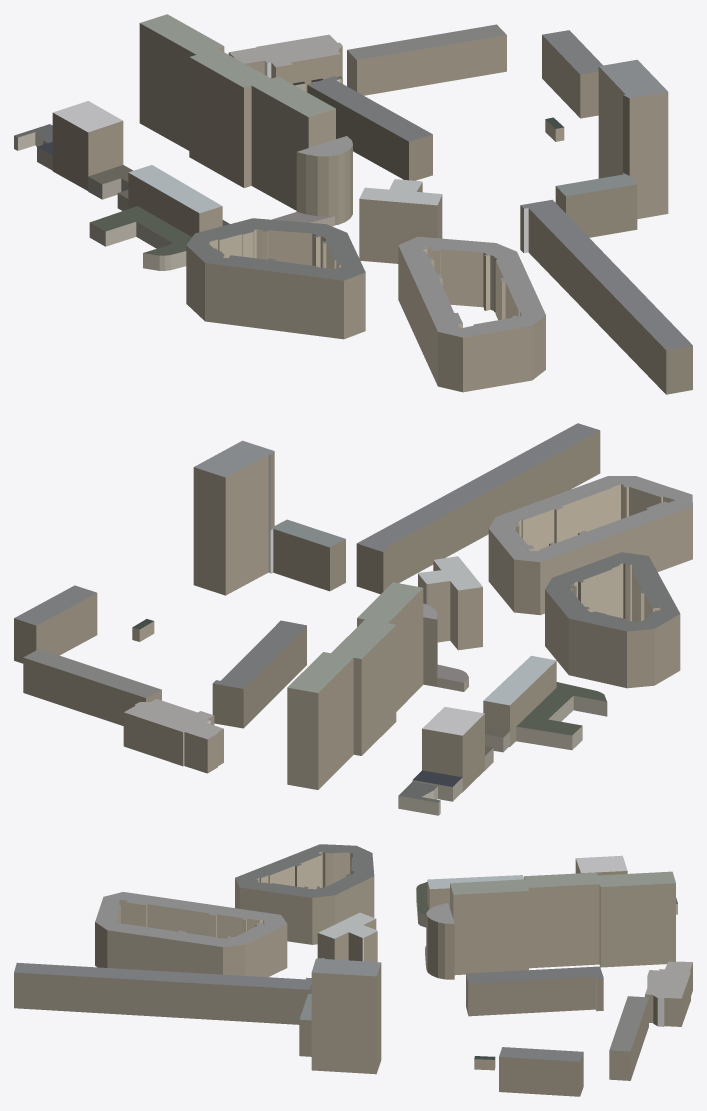
3 renders of one model, top to bottom at view 1: azimuth 30°, elevation 25°; view 2: azimuth 150°, elevation 25°; view 3: azimuth 270°, elevation 25°, orthographic. The views are drawn at different scales.
Parts seen in each view (by area): view 1: tuile; view 2: tuile; view 3: tuile.
Boxes of the visible parts, left/top/right/bottom form: tuile: left=14, top=14, right=692, bottom=394; tuile: left=14, top=423, right=692, bottom=815; tuile: left=14, top=844, right=692, bottom=1096.
Bounding box in the file's own units: 211 × 47.25 × 293.
